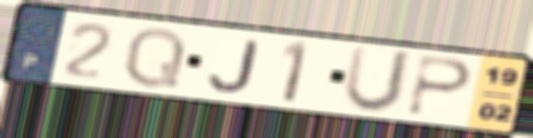1: (278, 39, 311, 106)
2: (60, 21, 116, 81)
J: (206, 37, 263, 95)
P: (403, 53, 476, 119)
Q: (120, 25, 190, 90)
U: (339, 43, 418, 116)
